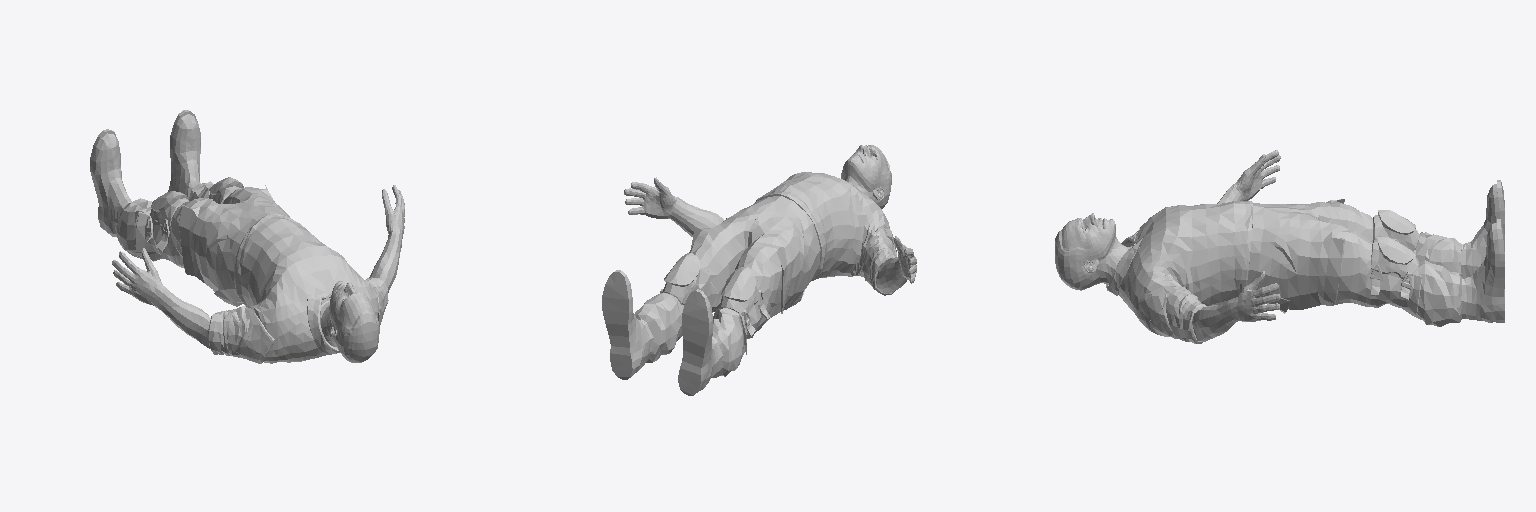
The model's file is SOLDATO(1).obj.
The picture shows the model from 3 angles: view 1: azimuth 30°, elevation 25°; view 2: azimuth 150°, elevation 25°; view 3: azimuth 270°, elevation 25°; orthographic projection.
Size of the model in its own units: 5.7 by 2.09 by 7.7.